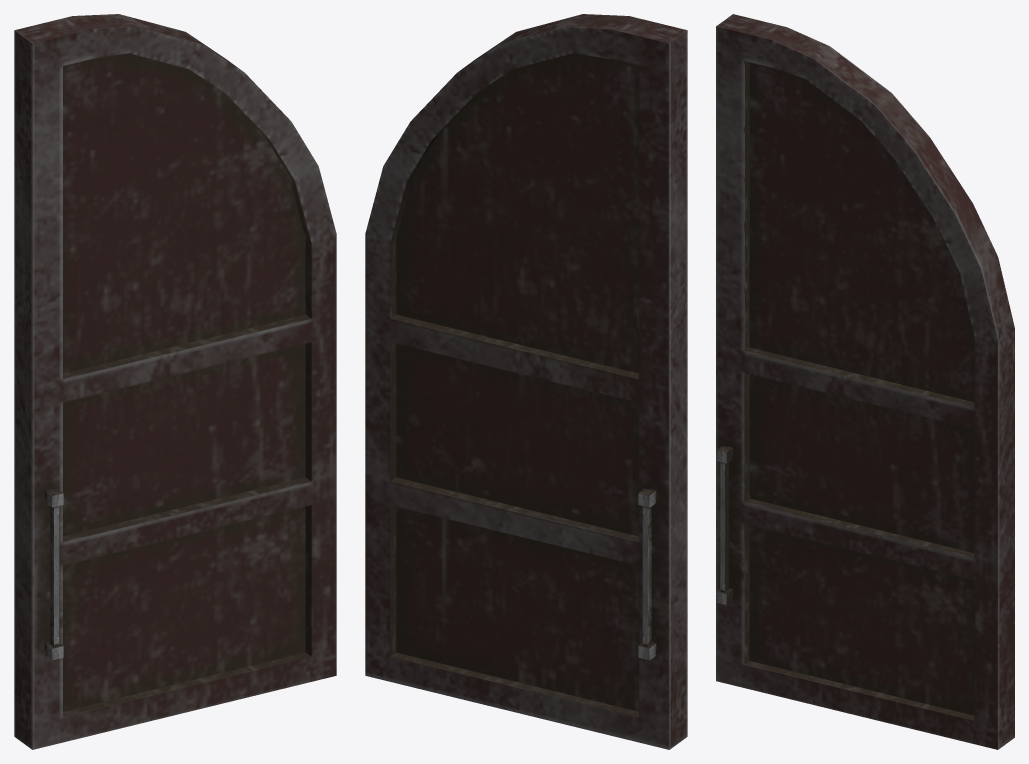
Rendered from Patio Gate.fbx.
3 views of the same model, side by side, from view 1: azimuth 30°, elevation 25°; view 2: azimuth 150°, elevation 25°; view 3: azimuth 330°, elevation 25° (orthographic). The views are drawn at different scales.
Parts seen in each view (by area): view 1: Portao.001; view 2: Portao.001; view 3: Portao.001.
Boxes of the visible parts, x1,y1,x2,y2 form: Portao.001: (14, 14, 336, 749); Portao.001: (365, 14, 687, 749); Portao.001: (716, 14, 1014, 749).
Bounding box in the file's own units: 246 × 545 × 53.06.
1 material, 1 textured.
